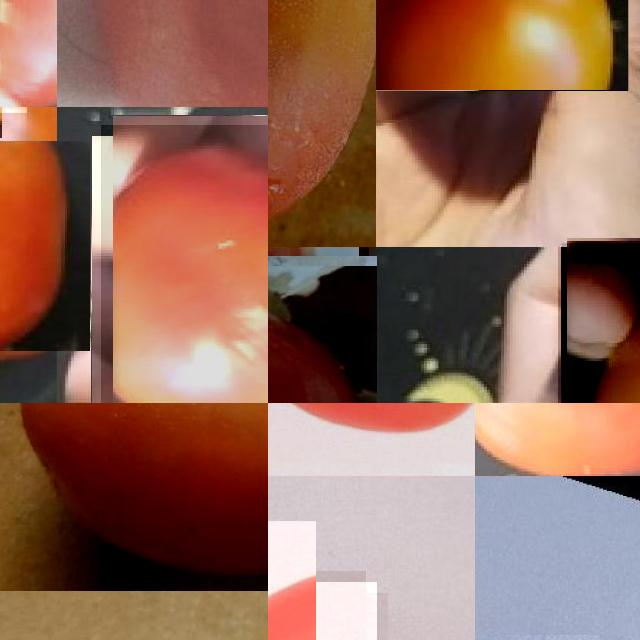0: (0, 123, 73, 367)
1: (101, 125, 268, 403), (57, 0, 268, 107)
Fresh Tomato: (0, 403, 268, 590), (268, 0, 376, 247), (376, 0, 628, 90), (268, 403, 475, 476), (562, 242, 640, 403), (268, 550, 346, 640)
Rotten Tomato: (268, 251, 373, 403)
